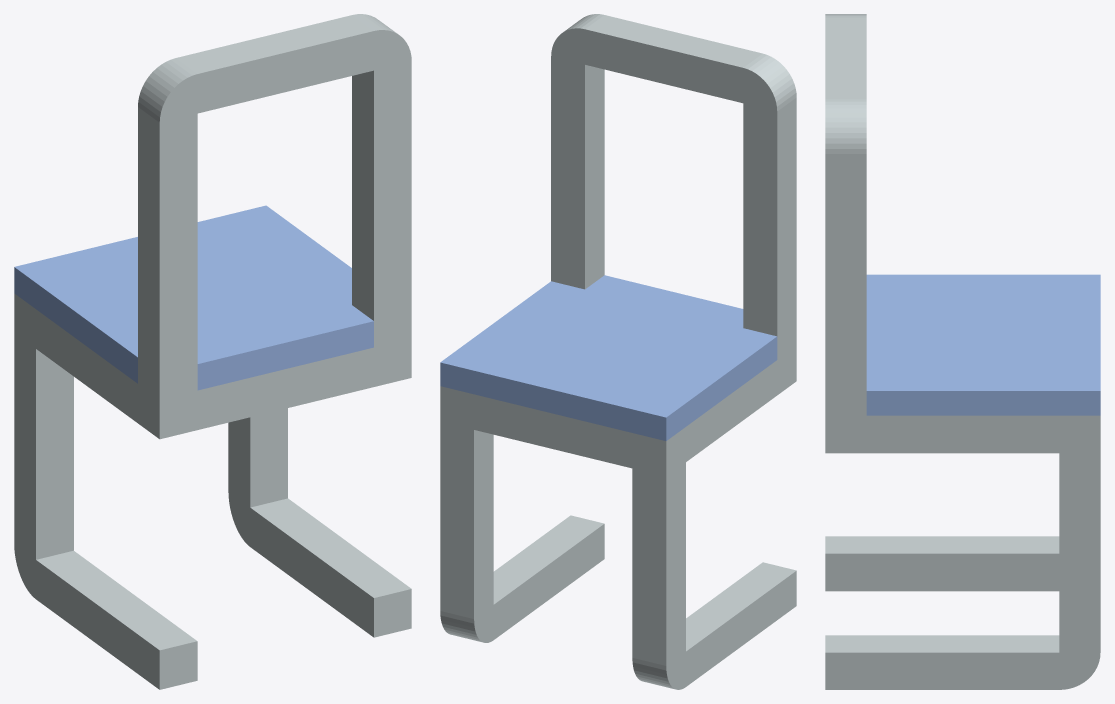
Rendered from chair-modern-frame-cushion.glb.
3 views of the same model, side by side, from view 1: azimuth 30°, elevation 25°; view 2: azimuth 150°, elevation 25°; view 3: azimuth 270°, elevation 25° (orthographic). The views are drawn at different scales.
Visible parts, largest first — view 1: Mesh0, Mesh1; view 2: Mesh0, Mesh1; view 3: Mesh0, Mesh1.
Part boxes in pixels (<box>): Mesh0: <box>14,14,411,689</box>; Mesh1: <box>14,205,373,390</box>; Mesh0: <box>440,14,796,689</box>; Mesh1: <box>440,275,777,440</box>; Mesh0: <box>825,14,1100,689</box>; Mesh1: <box>866,274,1100,415</box>.
Size of the model in its own units: 0.2 by 0.46 by 0.2.
